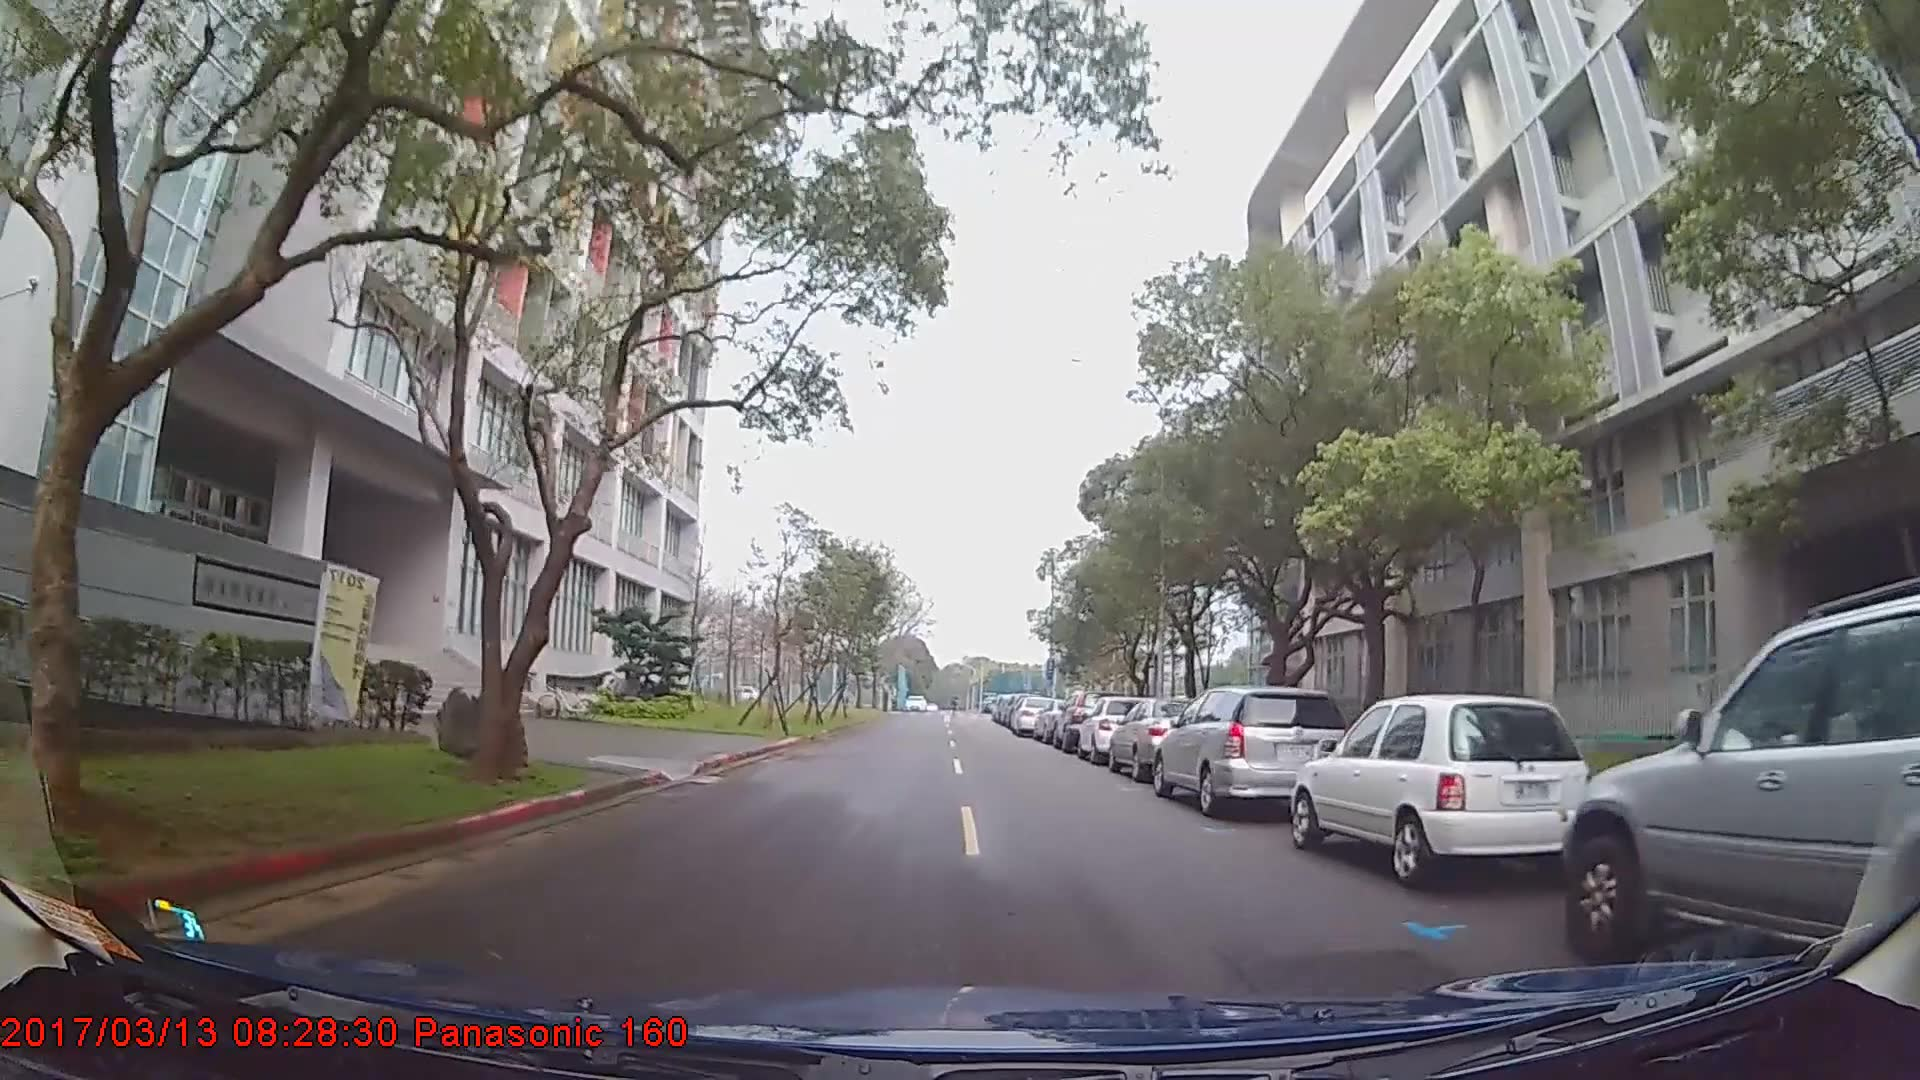vehicle: (1563, 595, 1920, 967), (1287, 691, 1593, 886), (1150, 684, 1354, 818), (1105, 694, 1217, 779), (1007, 690, 1059, 735)
